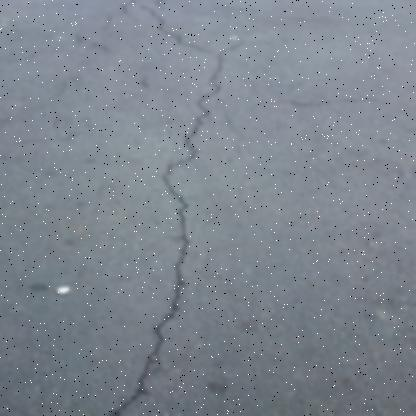Cracks: (62, 0, 265, 415)
